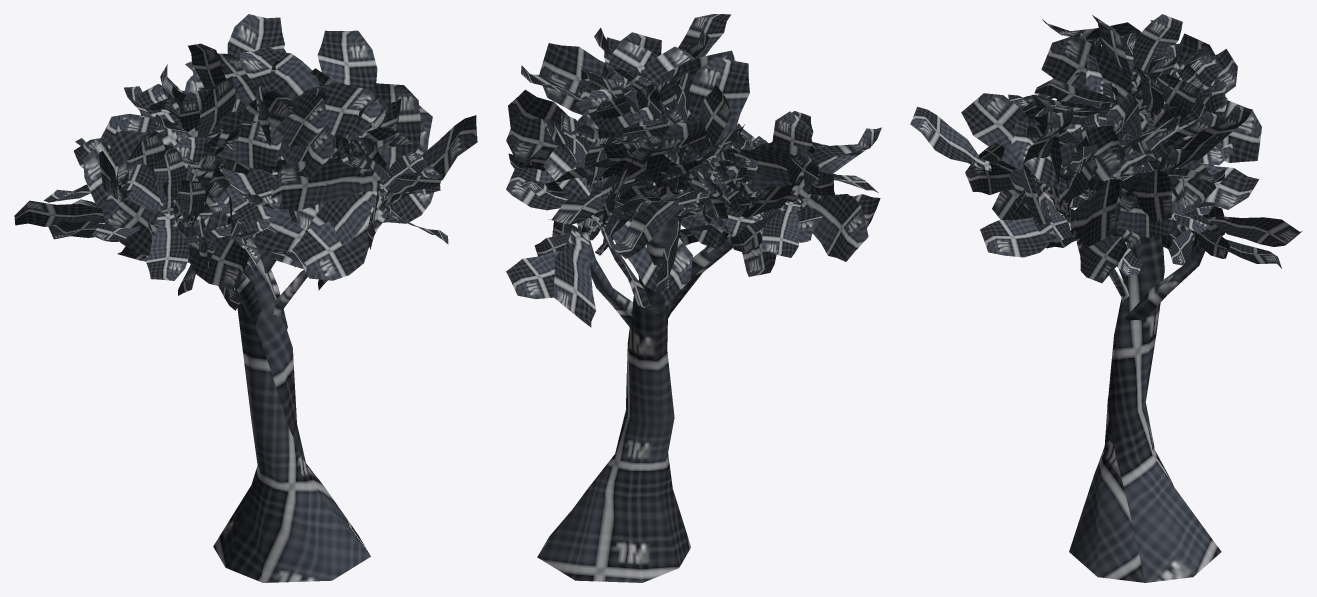
File: Tree0.fbx
The picture shows the model from 3 angles, left to right: view 1: azimuth 30°, elevation 25°; view 2: azimuth 150°, elevation 25°; view 3: azimuth 270°, elevation 25°; orthographic projection. The views are drawn at different scales.
Parts seen in each view (by area): view 1: Tree0; view 2: Tree0; view 3: Tree0.
Boxes of the visible parts, x1=… form: Tree0: x1=14, y1=14, x2=477, y2=582; Tree0: x1=506, y1=14, x2=881, y2=582; Tree0: x1=910, y1=14, x2=1302, y2=582.
Bounding box in the file's own units: 744 × 925 × 659.
